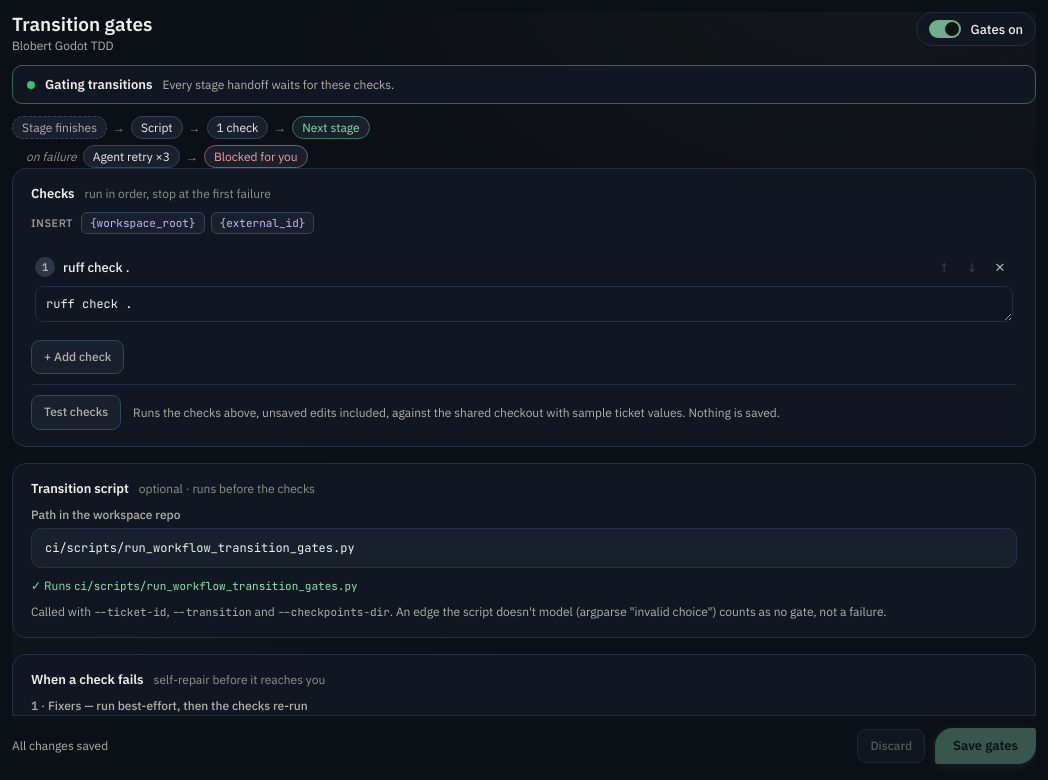
Scenario: WorkspaceGatesPanel › inserts a placeholder chip at the caret of the focused check
This screenshot has width=1048, height=780.
Click the button "{workspace_root}": (143, 223) [81,212,205,234]
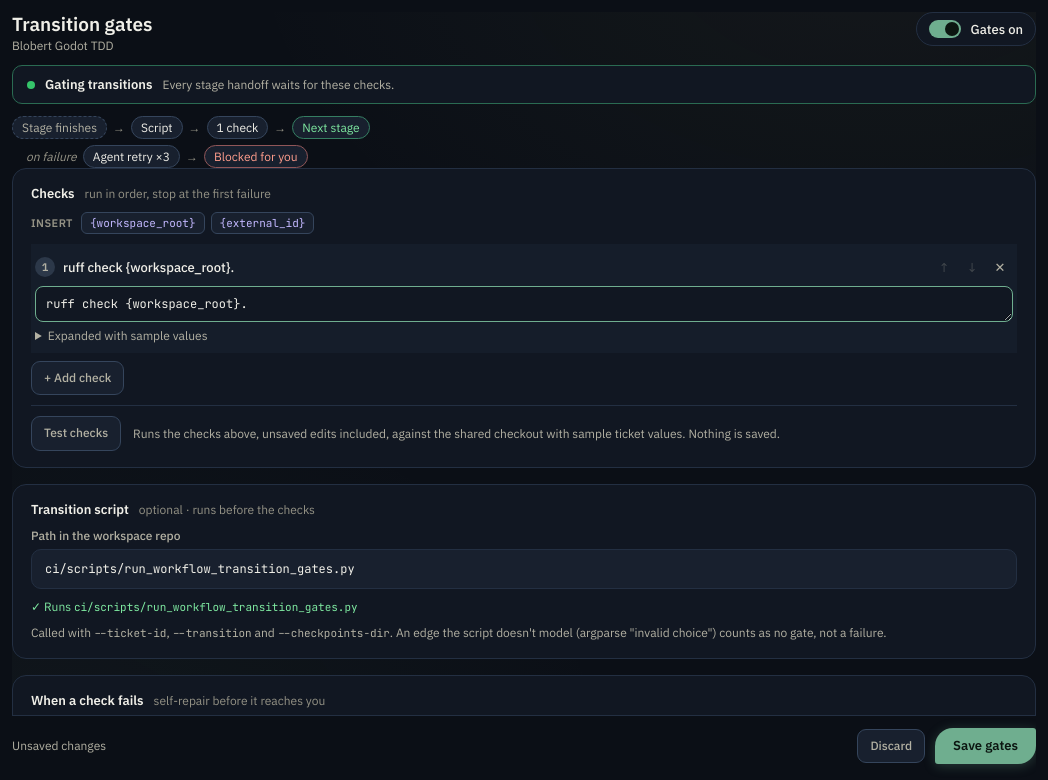
Check: the text box showing "ruff check {workspace_root}." is shown, box [35,286,1013,322]
